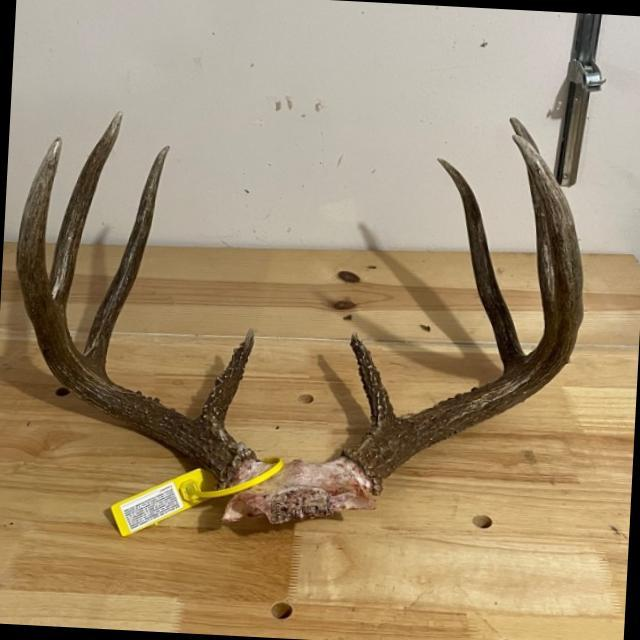L-F: (346, 133, 584, 479)
L-G1: (350, 330, 396, 432)
L-G2: (436, 157, 527, 374)
R-F: (15, 136, 253, 482)
R-G1: (198, 326, 258, 432)
R-G2: (85, 145, 171, 375)
R-G3: (49, 111, 124, 308)
